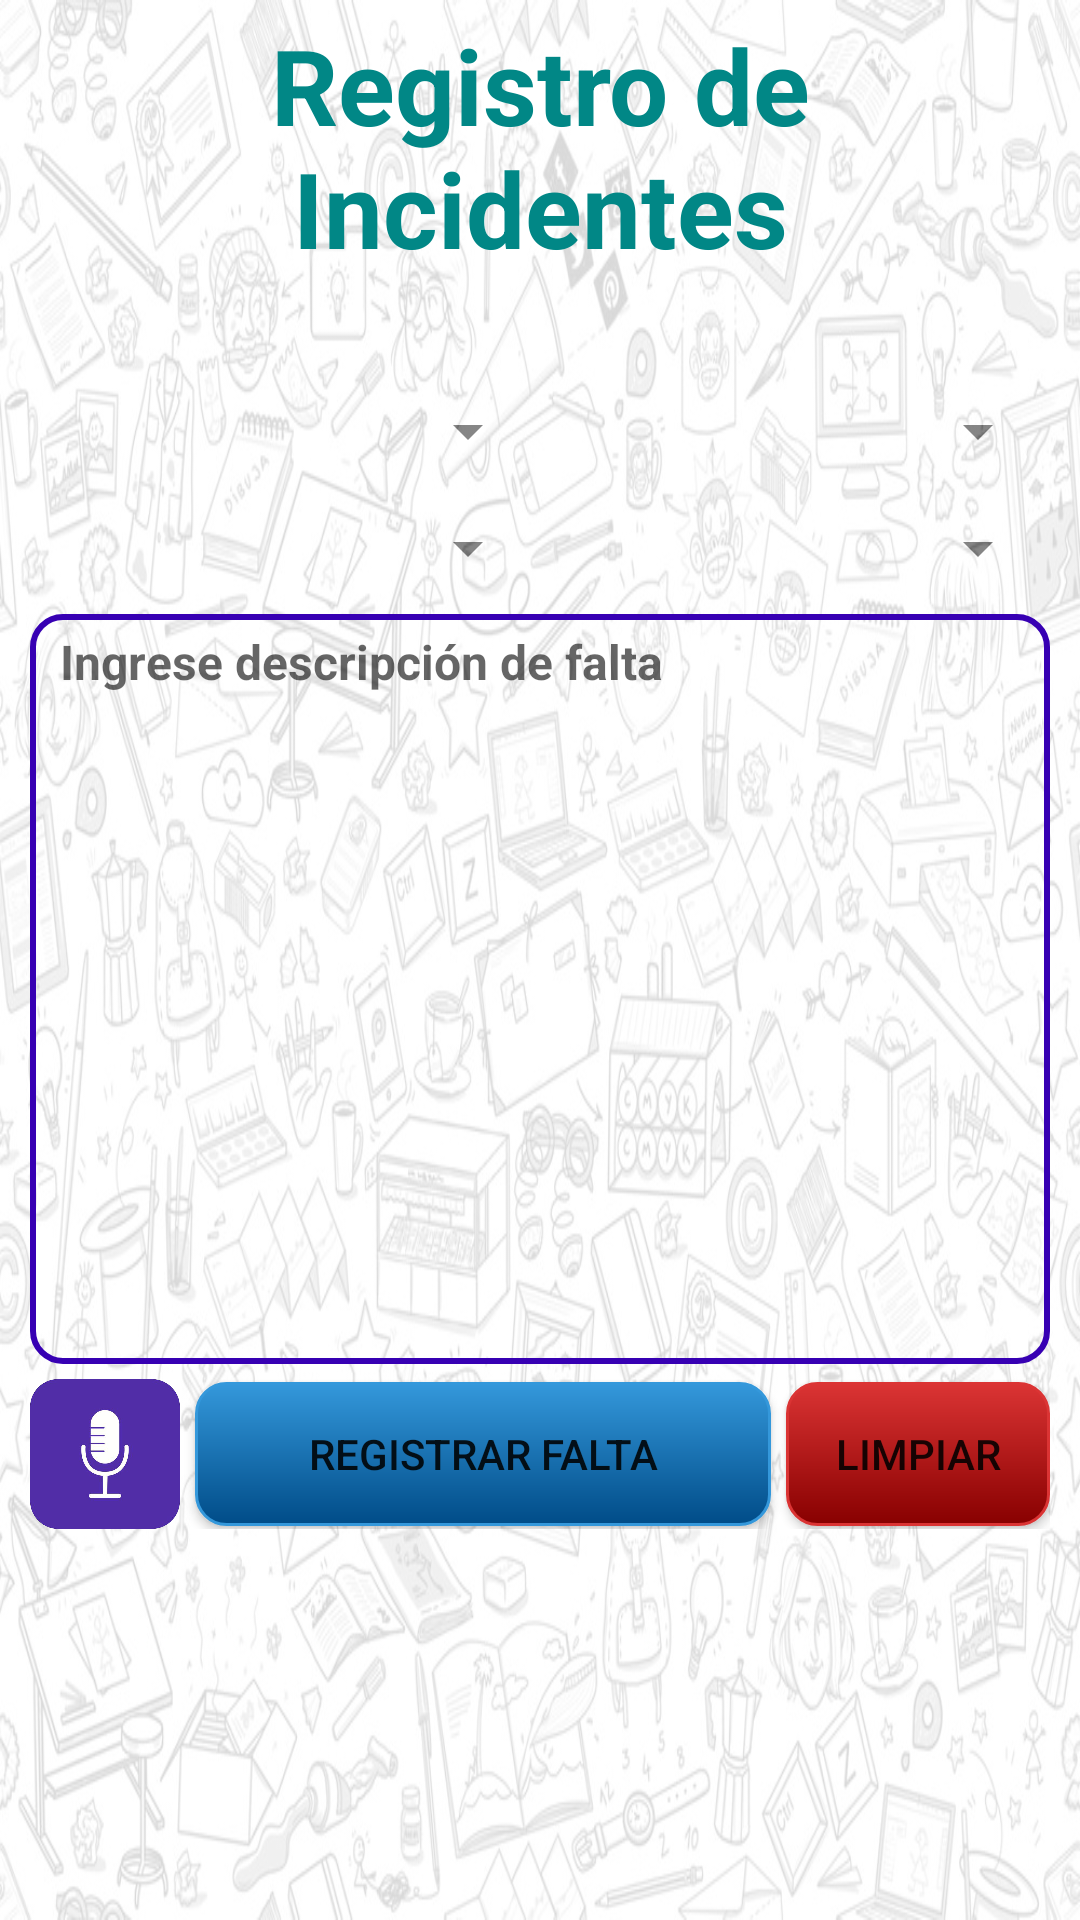

Locate icon controls on the screen. Image size 1080px x 1920px, boxes as (x1, y1, x2, y2).
mic: (30, 1379, 180, 1529)
